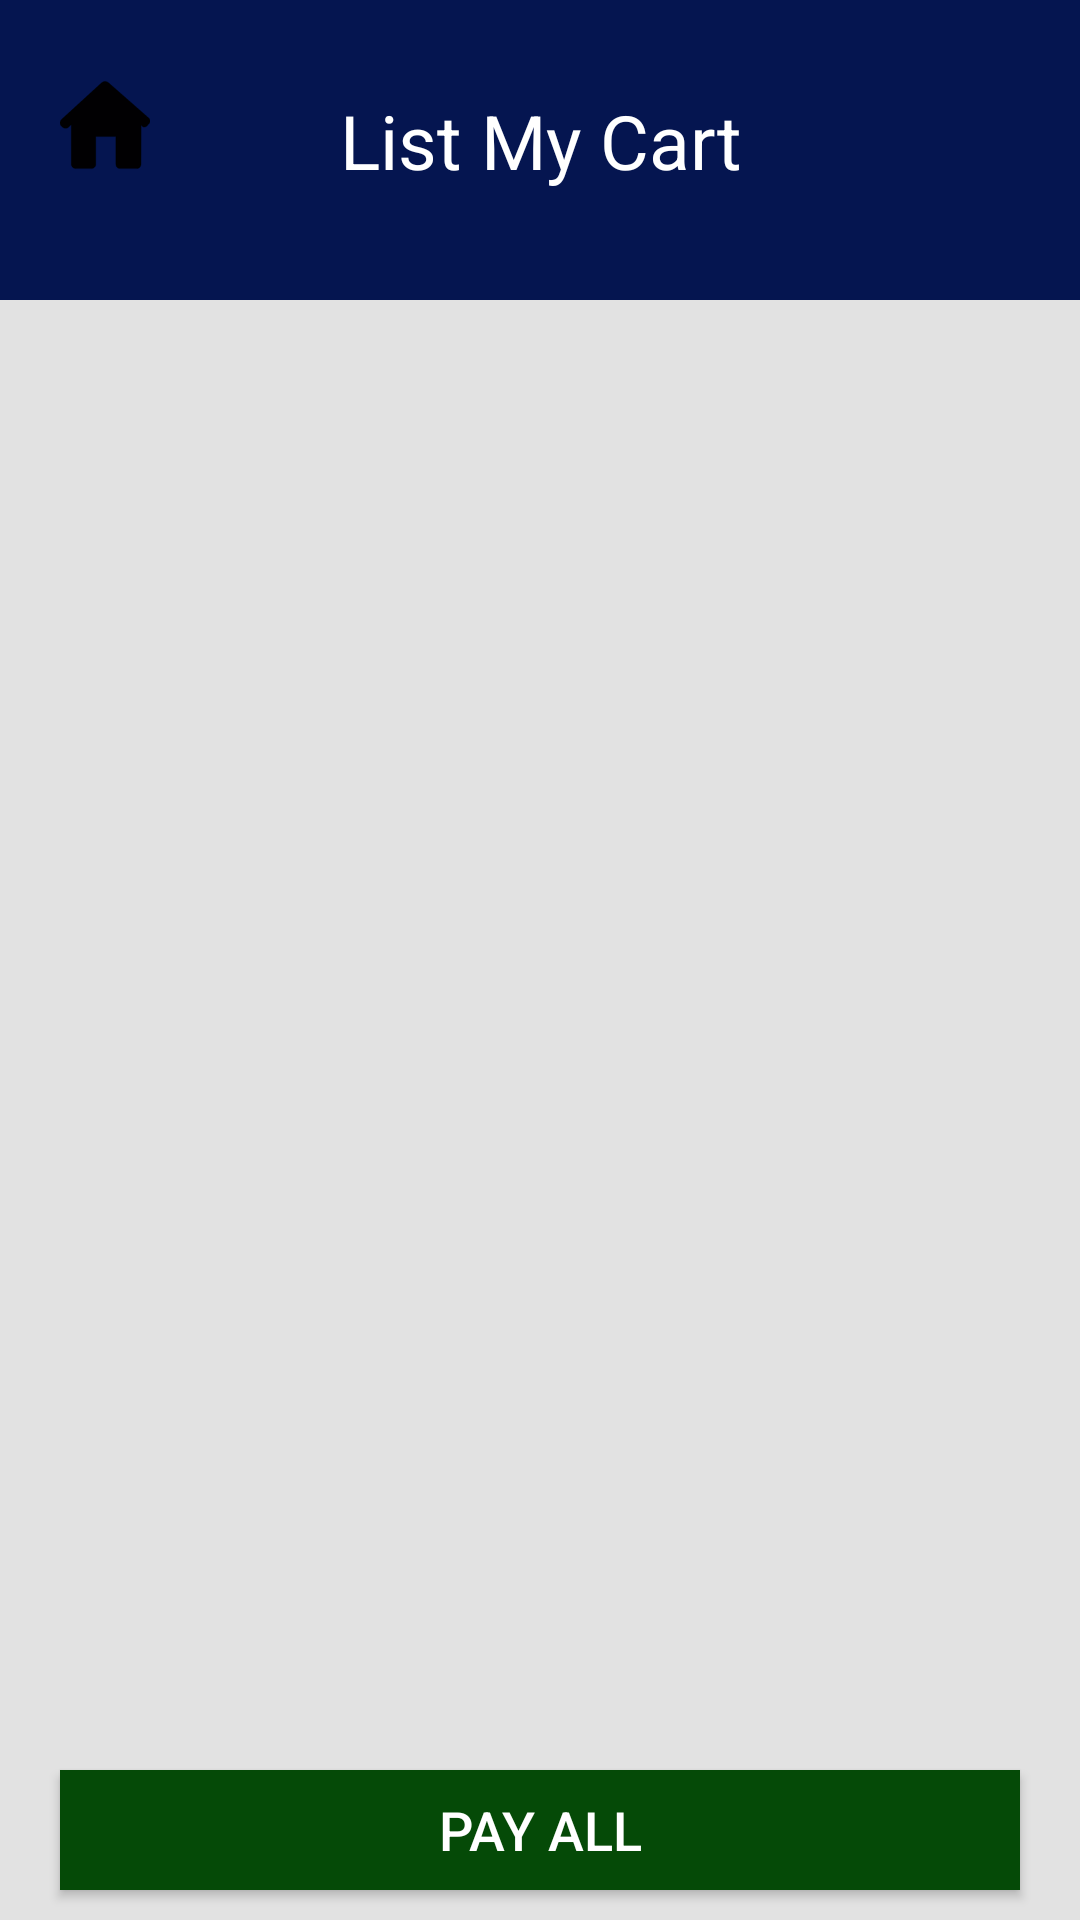

Named icons in this screenshot (1080 x 1920) and their bounding boxes, (x1, y1, x2, y2):
homeback: (60, 81, 150, 169)
